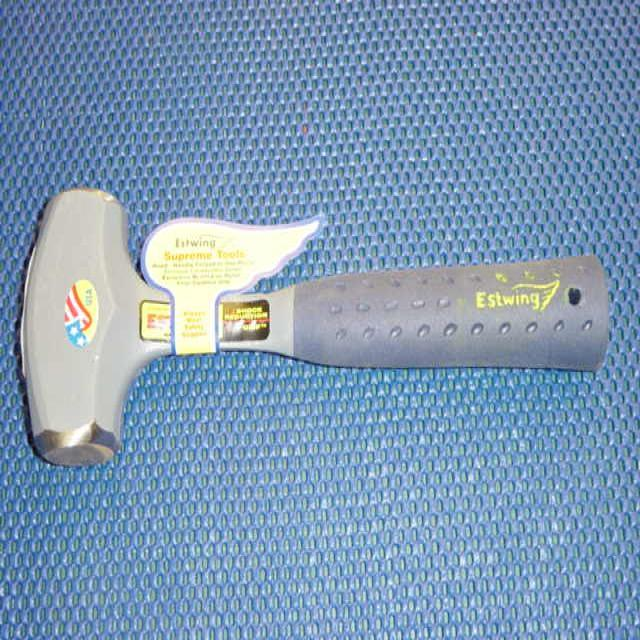hammer: (14, 166, 618, 492)
